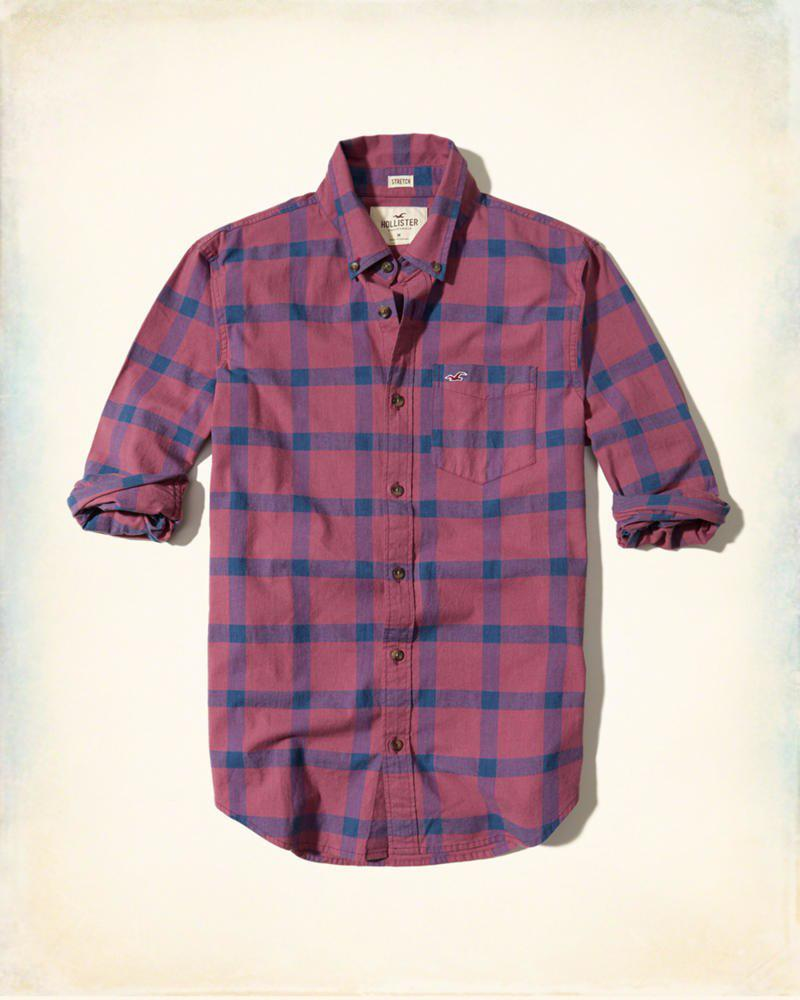teeshirt: (61, 124, 736, 874)
